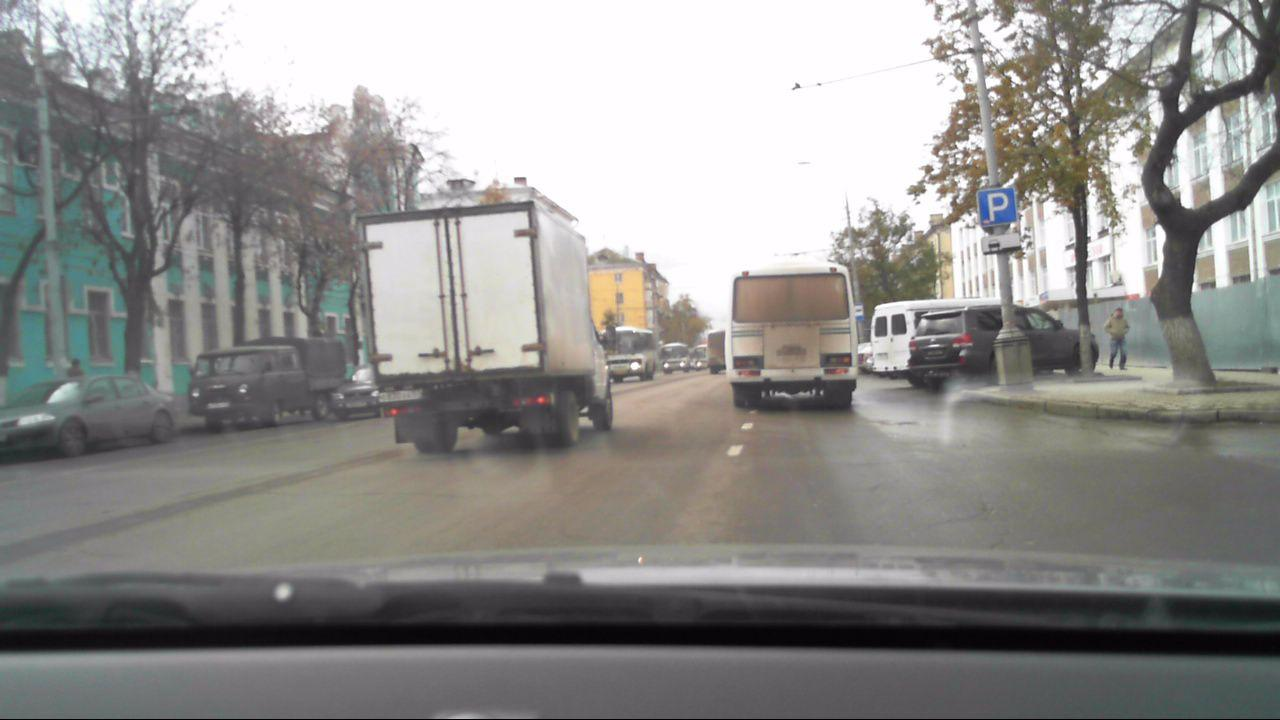6_4: (979, 183, 1020, 230)
8_6_1: (982, 234, 1020, 253)
